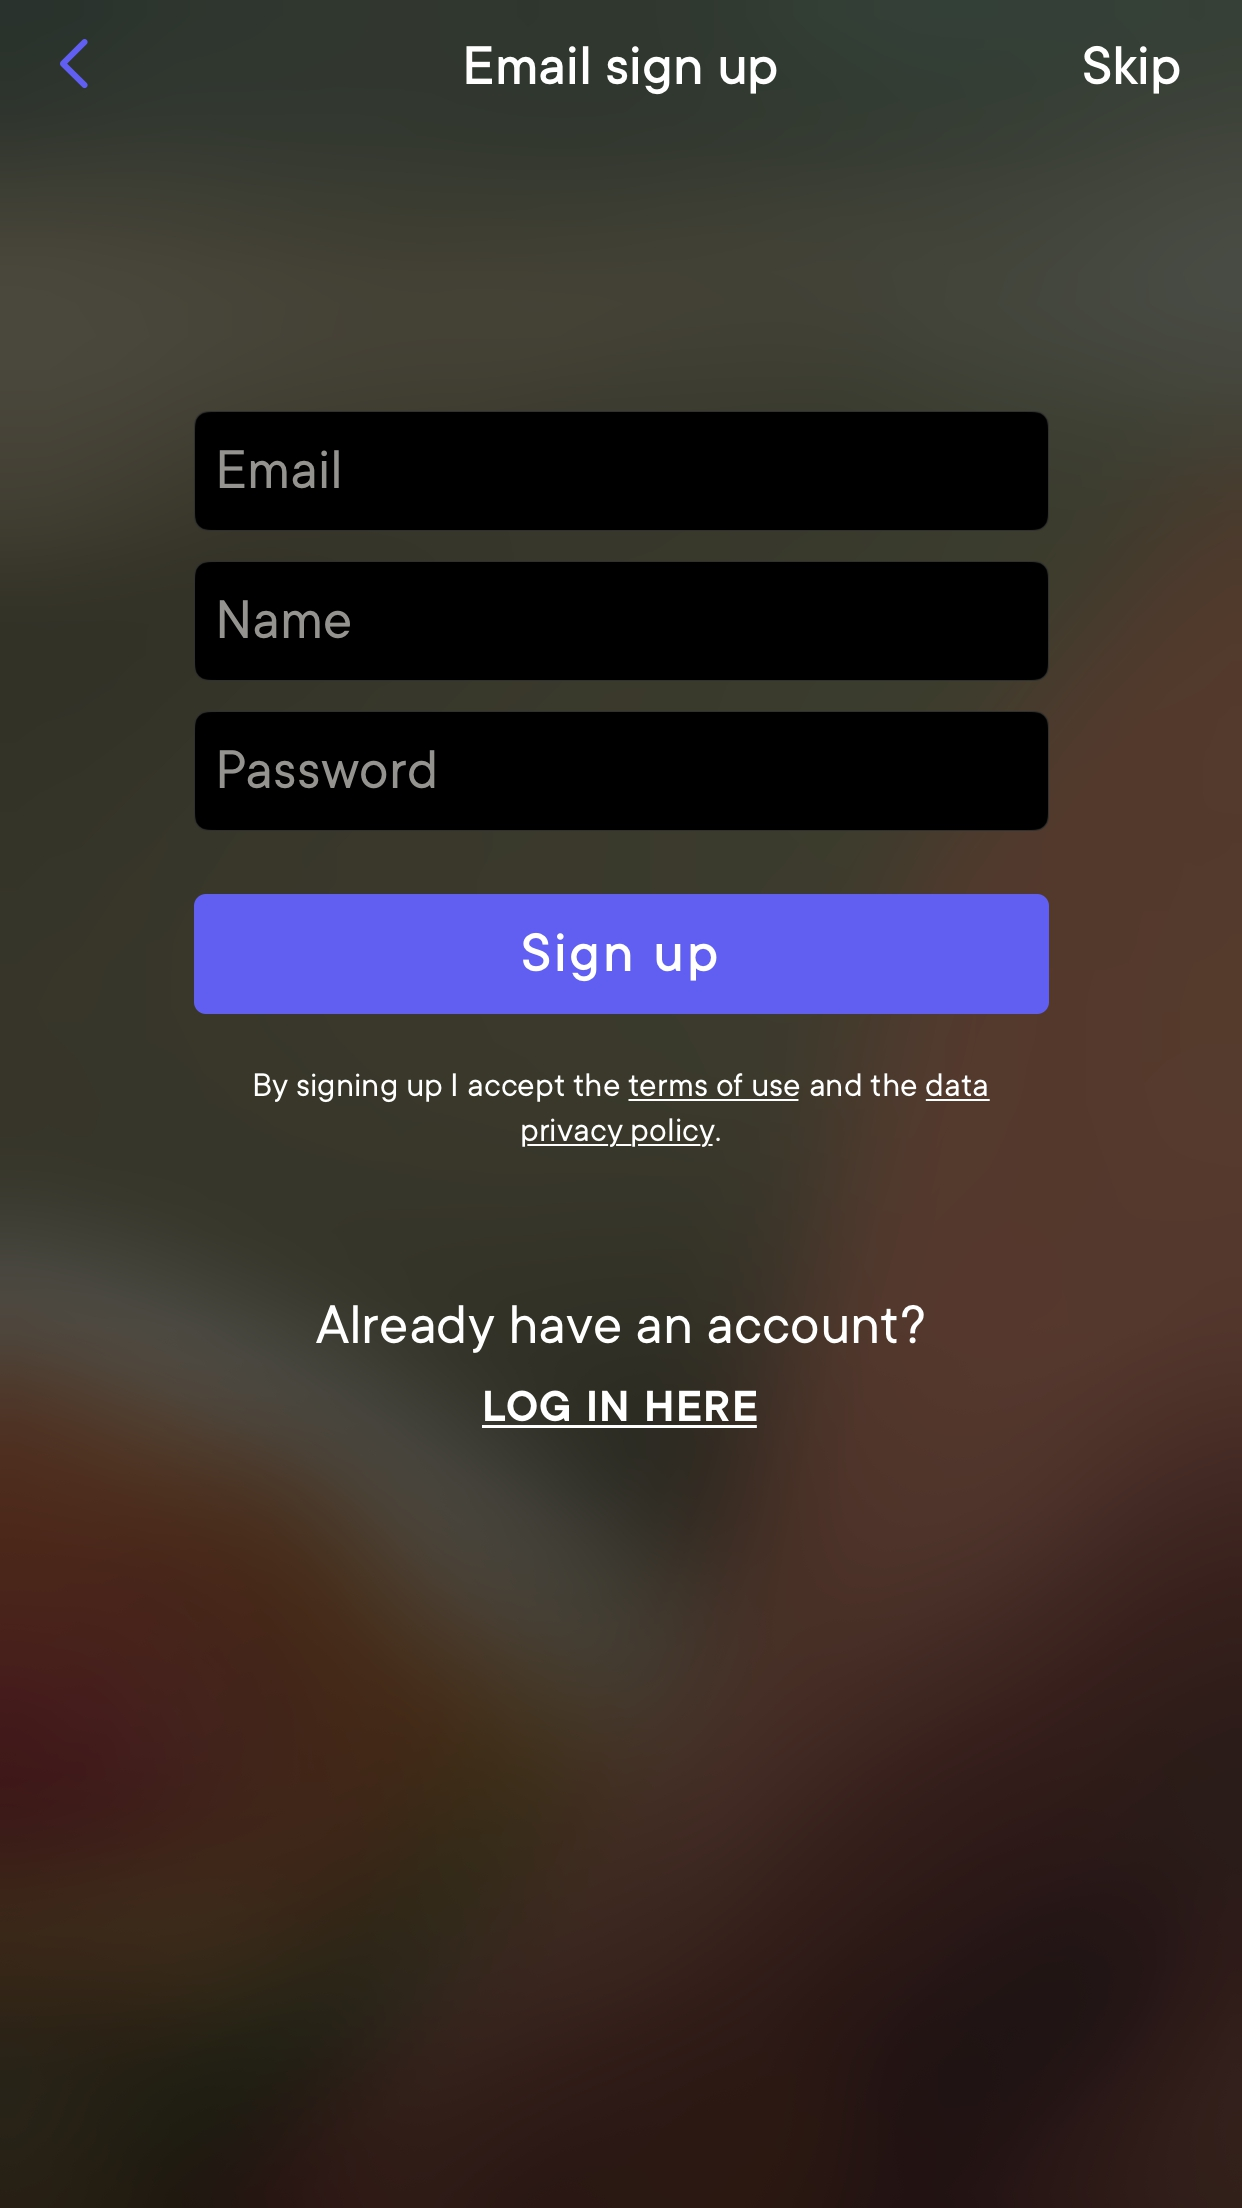EditText: (196, 713, 1049, 833), (196, 412, 1049, 532), (196, 563, 1048, 682)
Icon: (61, 39, 89, 89)
Text: (255, 1074, 990, 1148), (315, 1304, 925, 1354), (466, 45, 776, 96), (482, 1389, 758, 1429), (220, 751, 437, 790), (218, 601, 352, 641), (218, 449, 340, 490), (1083, 45, 1180, 96)
TextButton: (194, 895, 1049, 1015)
